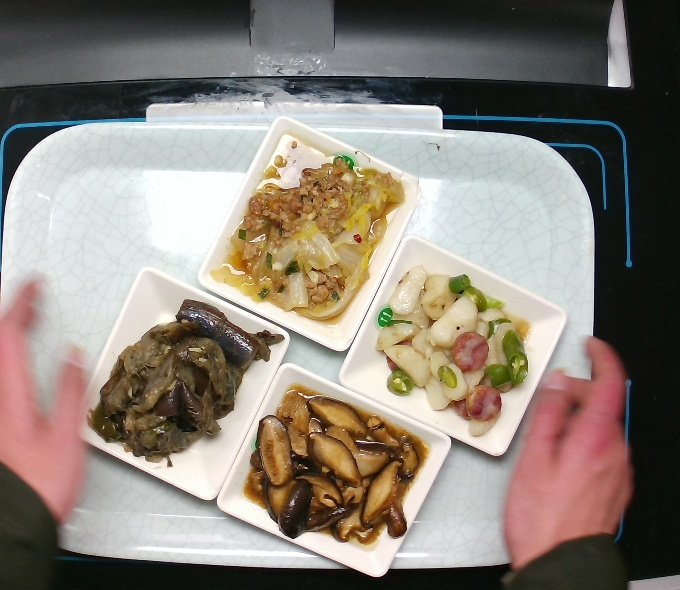wcq-MaTiGuo: (373, 261, 533, 437)
wcq-MoGu: (241, 378, 432, 546)
wcq-QieZi: (84, 296, 287, 470)
wcq-RouMoBaiCai: (210, 132, 408, 325)
